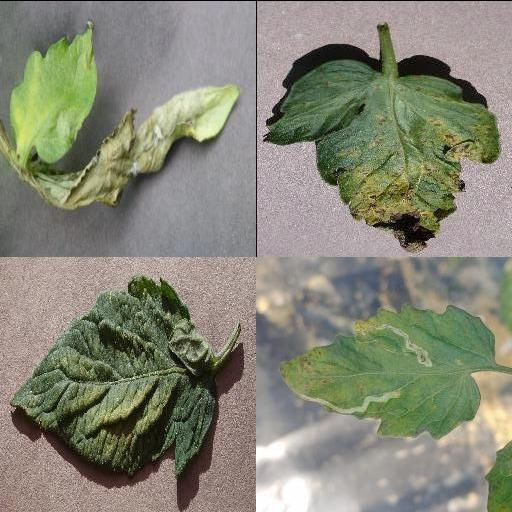Late Blight: (26, 82, 240, 210), (9, 15, 99, 163)
Leaf Miner: (279, 300, 497, 442)
Septoria: (263, 57, 501, 253)
Spider Mites: (9, 275, 217, 476)
